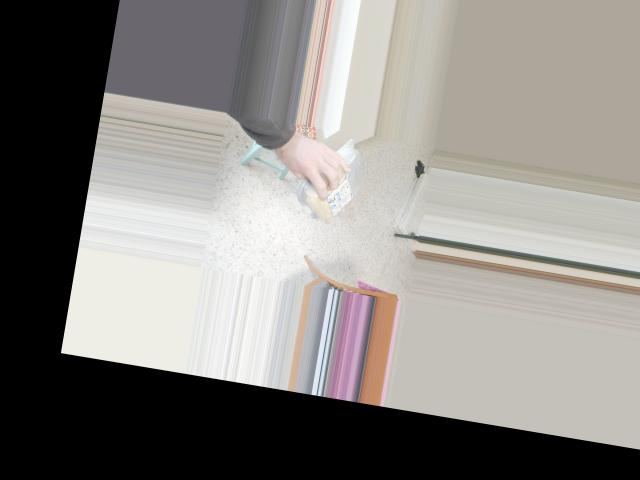cheese: (306, 138, 359, 235)
